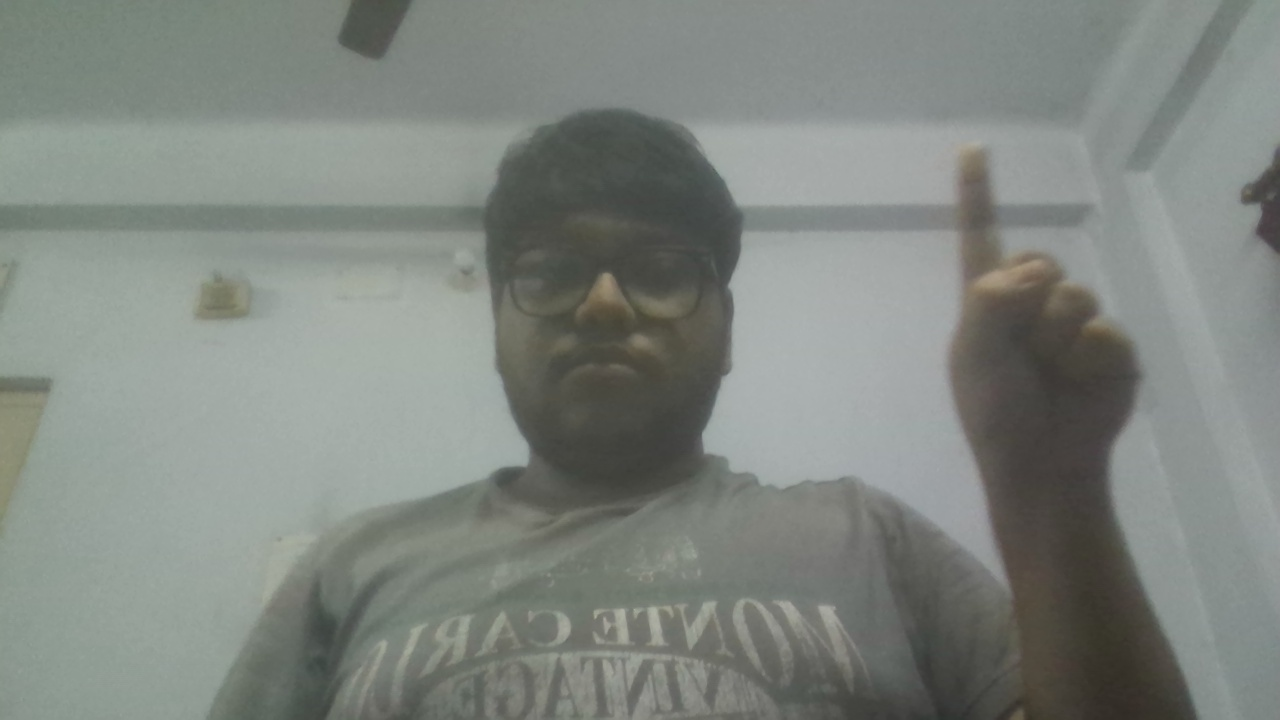Gesture1: (932, 131, 1157, 497)
